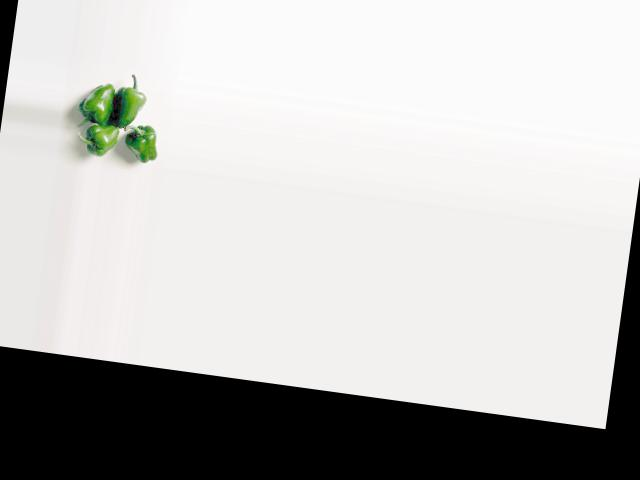bell_pepper: (76, 123, 121, 158)
